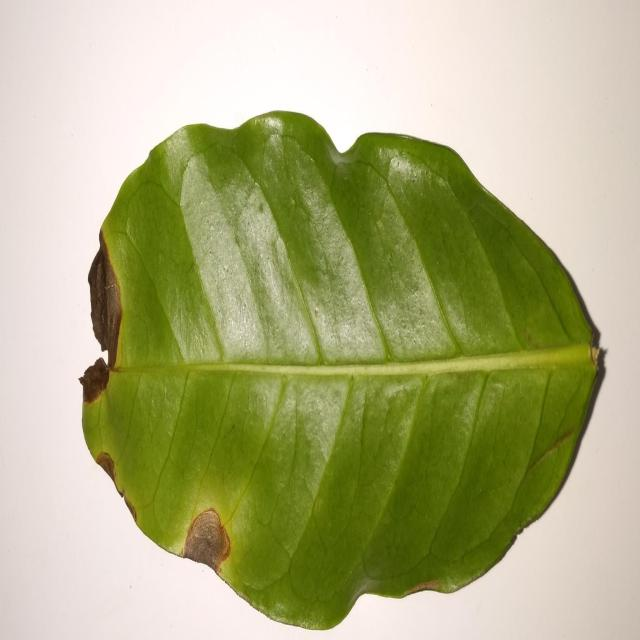Enfermedad-Mancha-de-hierro: (79, 111, 608, 634)
